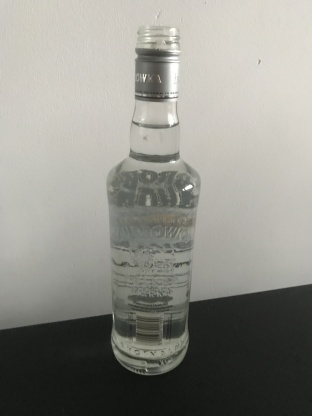nakretka: (133, 22, 182, 102)
